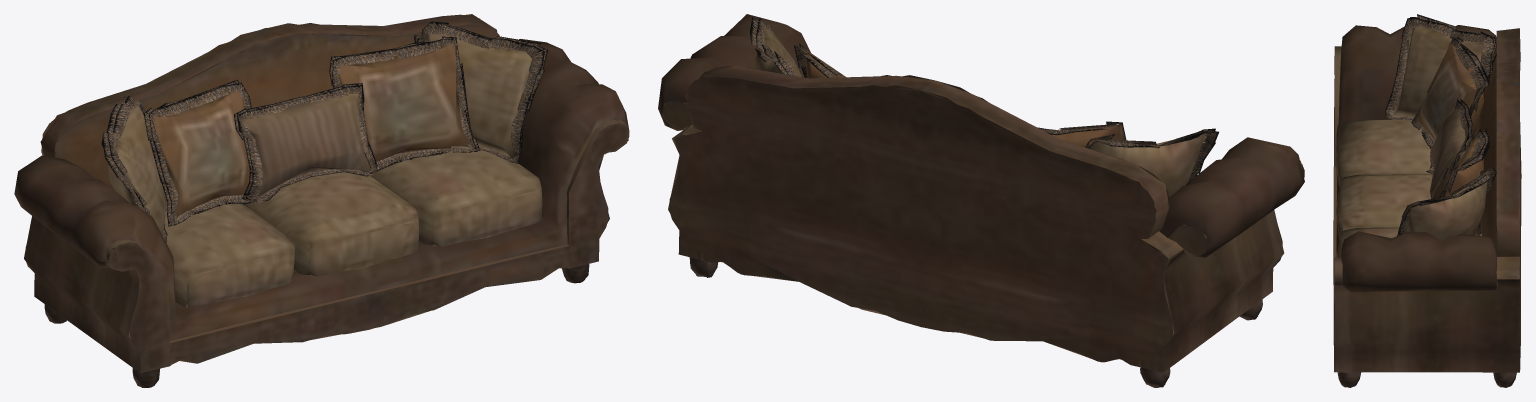
File: sofa_03.glb
3 renders of one model, left to right at view 1: azimuth 30°, elevation 25°; view 2: azimuth 150°, elevation 25°; view 3: azimuth 270°, elevation 25°, orthographic. The views are drawn at different scales.
Visible parts, largest first — view 1: sofa_03; view 2: sofa_03; view 3: sofa_03.
Part boxes in pixels (left/top/right/bottom): sofa_03: left=14, top=14, right=629, bottom=387; sofa_03: left=658, top=14, right=1304, bottom=387; sofa_03: left=1333, top=14, right=1521, bottom=387.
Size of the model in its own units: 2.74 by 1.12 by 0.9243.
Materials: 2 (2 with a texture image).
